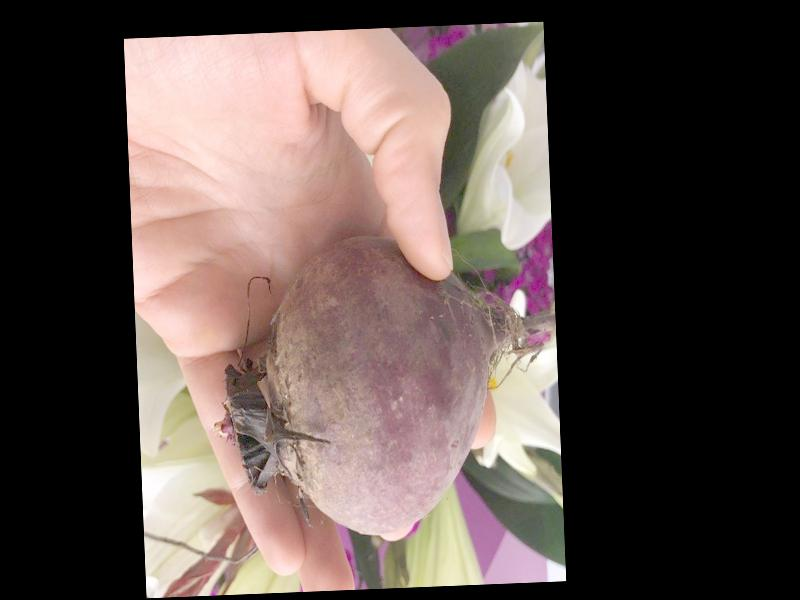Beet: (209, 229, 562, 543)
